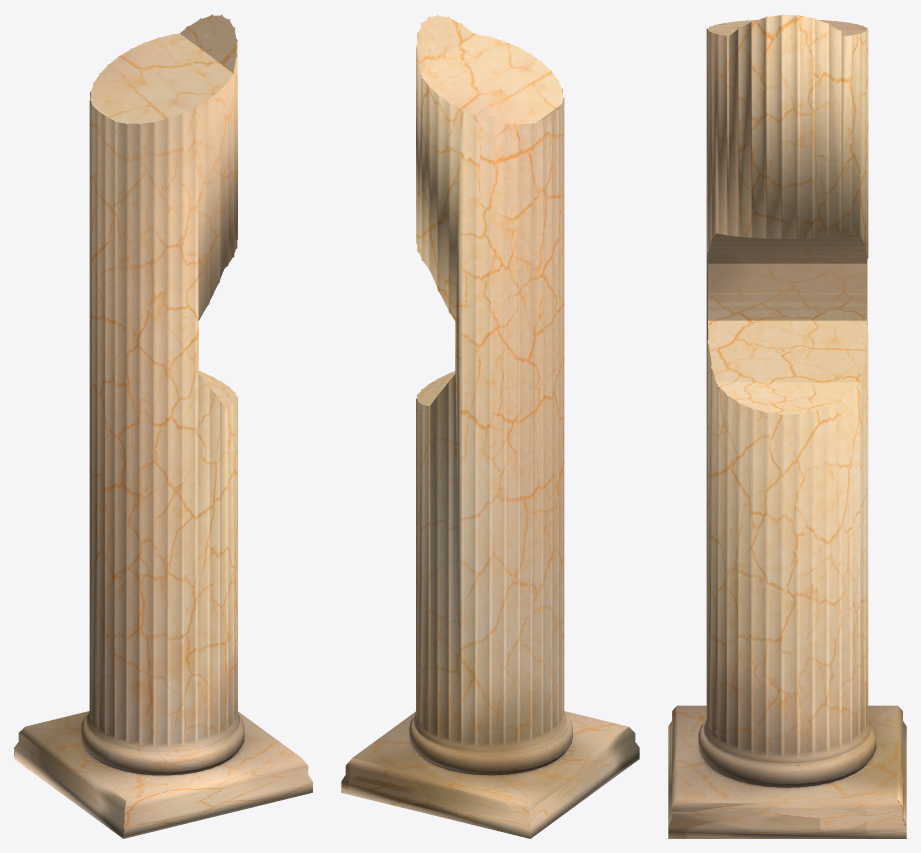
Rendered from columna3.fbx.
3 views of the same model, side by side, from view 1: azimuth 30°, elevation 25°; view 2: azimuth 150°, elevation 25°; view 3: azimuth 270°, elevation 25° (orthographic). The views are drawn at different scales.
Parts seen in each view (by area): view 1: Columna rota 2; view 2: Columna rota 2; view 3: Columna rota 2.
Boxes of the visible parts, x1,y1,x2,y2 form: Columna rota 2: [14, 14, 312, 838]; Columna rota 2: [341, 14, 639, 838]; Columna rota 2: [668, 14, 906, 838].
Size of the model in its own units: 56.47 by 212 by 56.47.
